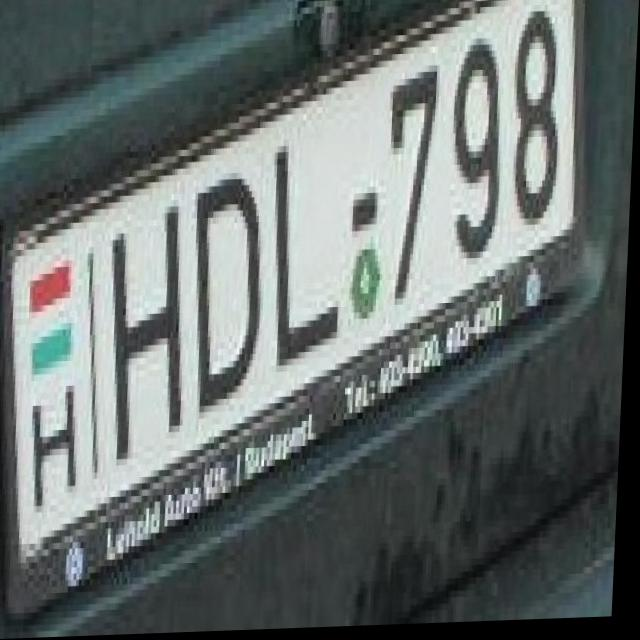7: (381, 62, 438, 322)
8: (507, 0, 565, 229)
9: (444, 35, 509, 282)
D: (190, 162, 269, 409)
H: (107, 201, 194, 473)
L: (269, 128, 356, 369)
